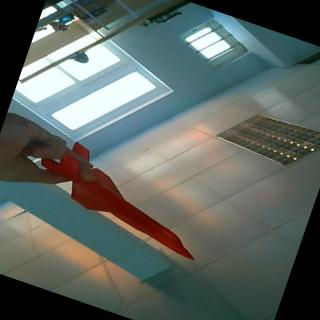Jet: (44, 137, 221, 260)
